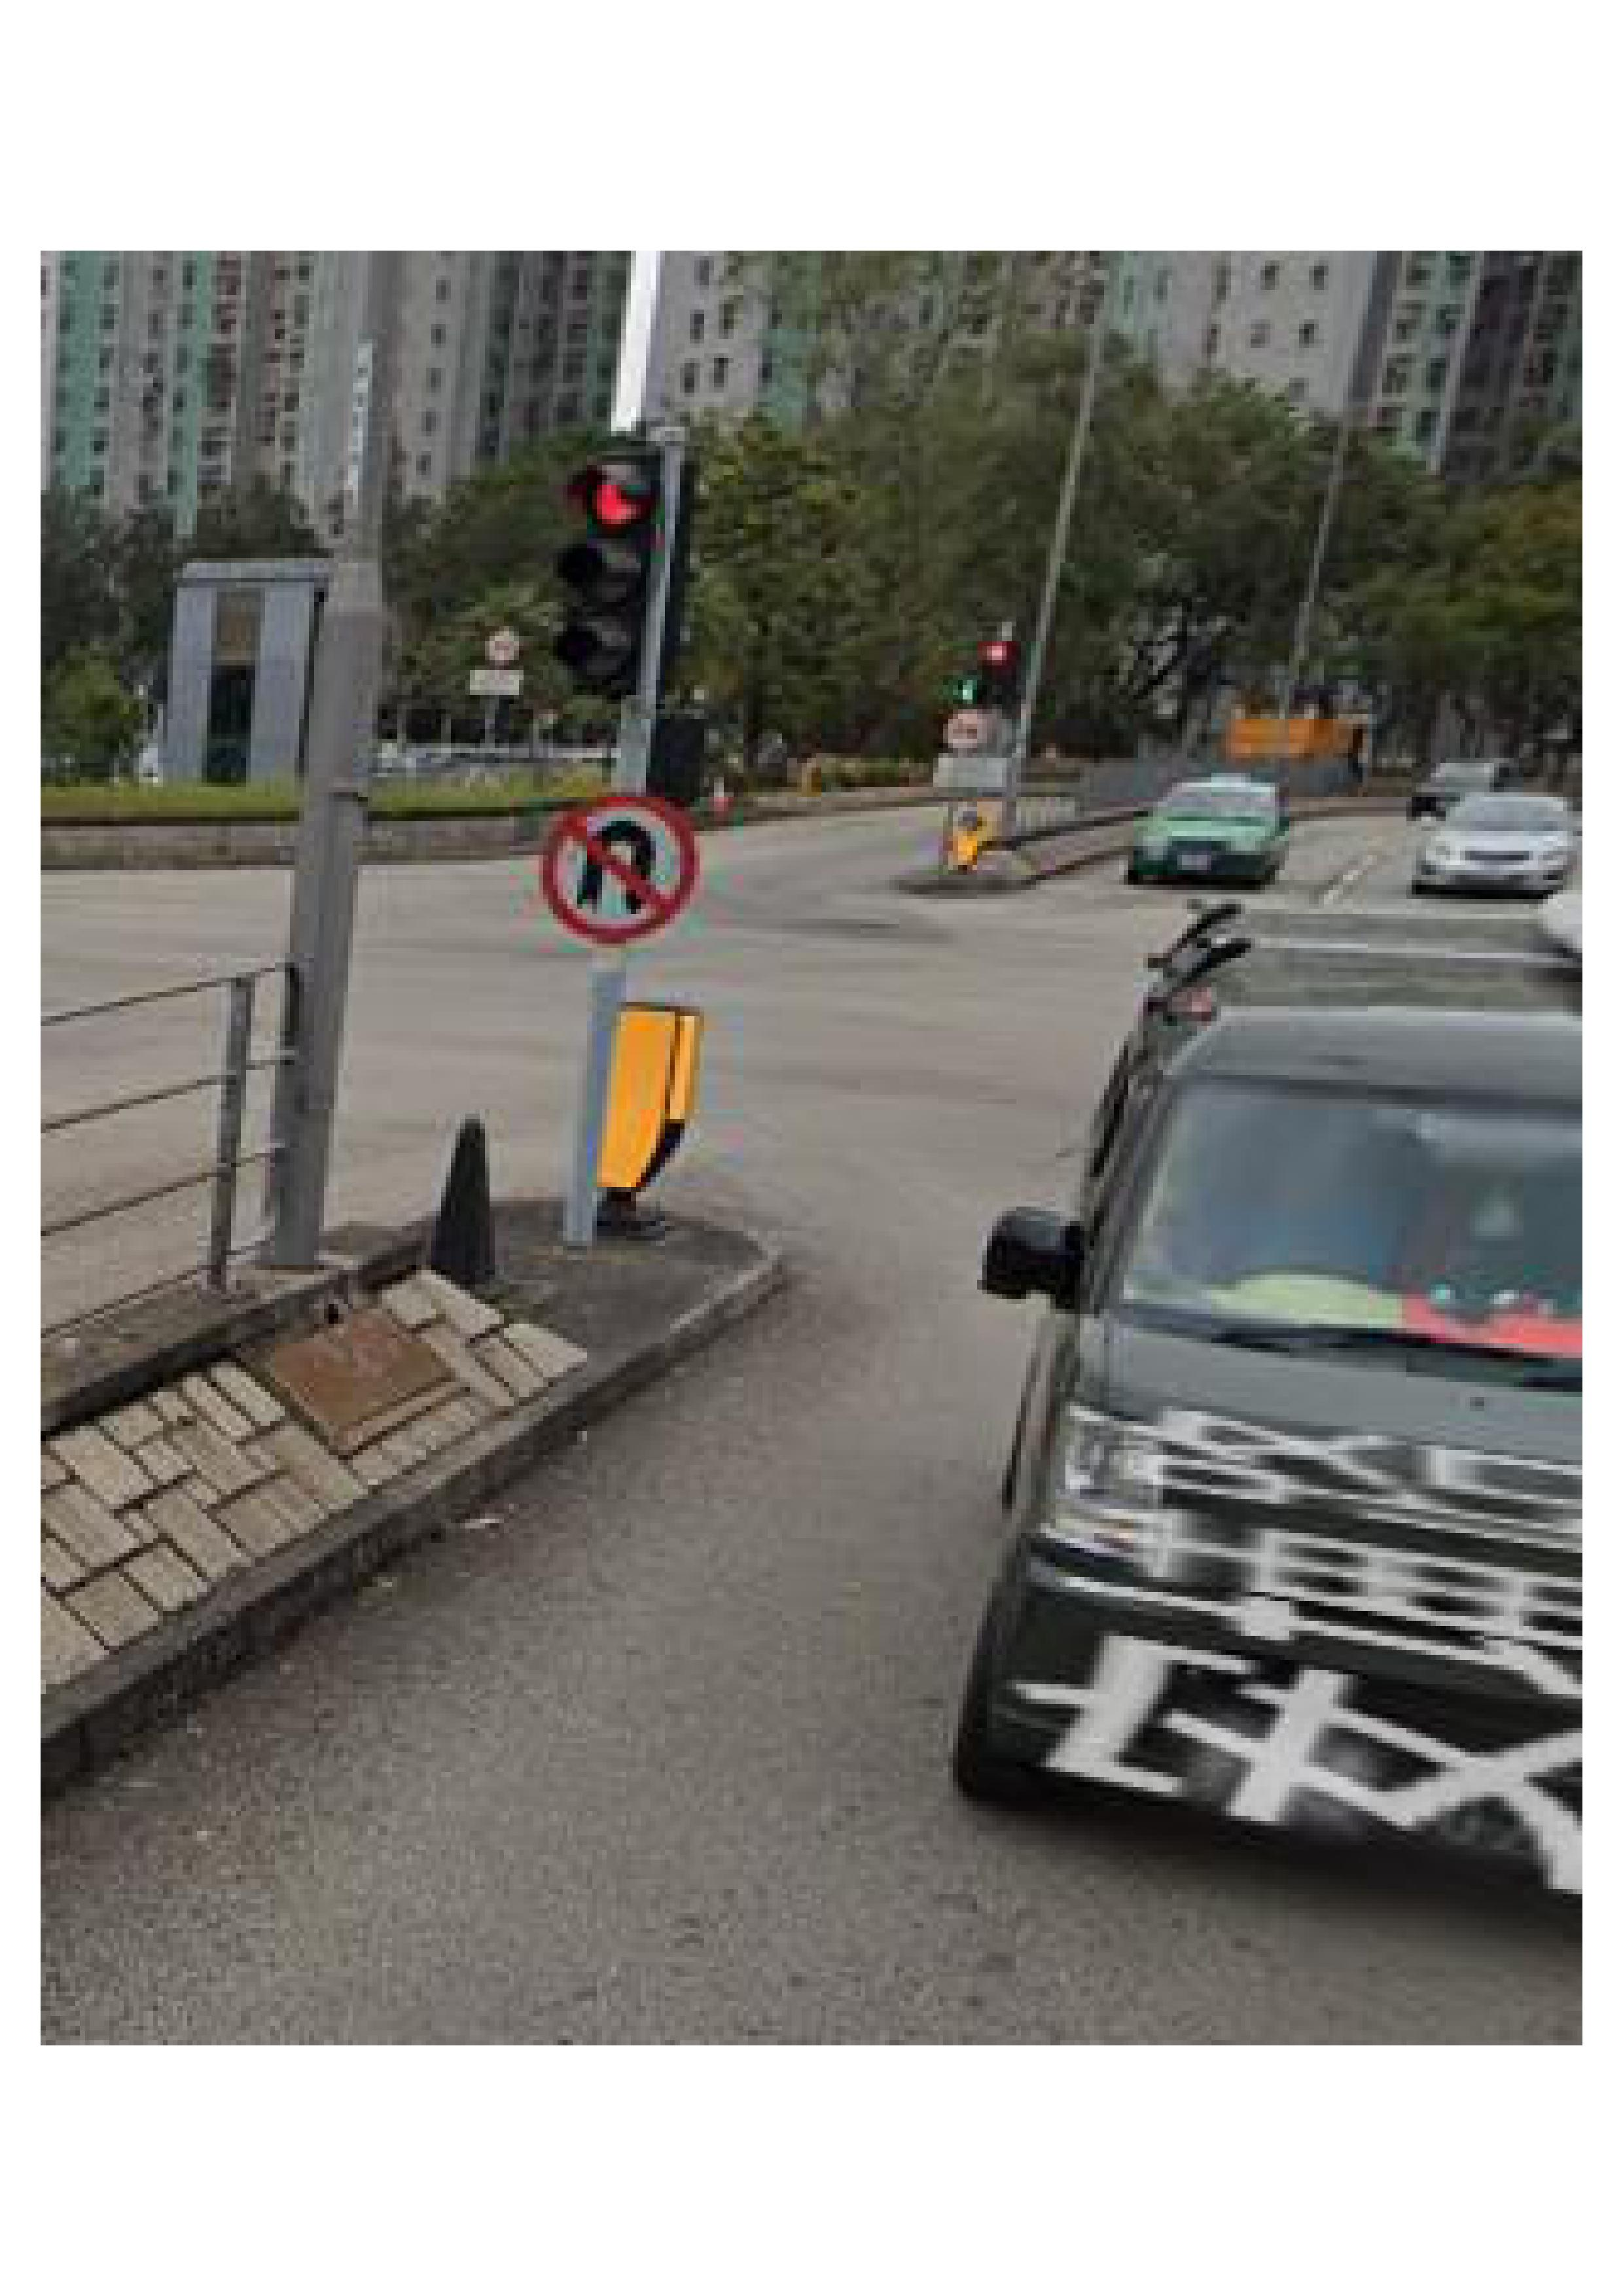No Uturn: (541, 781, 701, 948)
